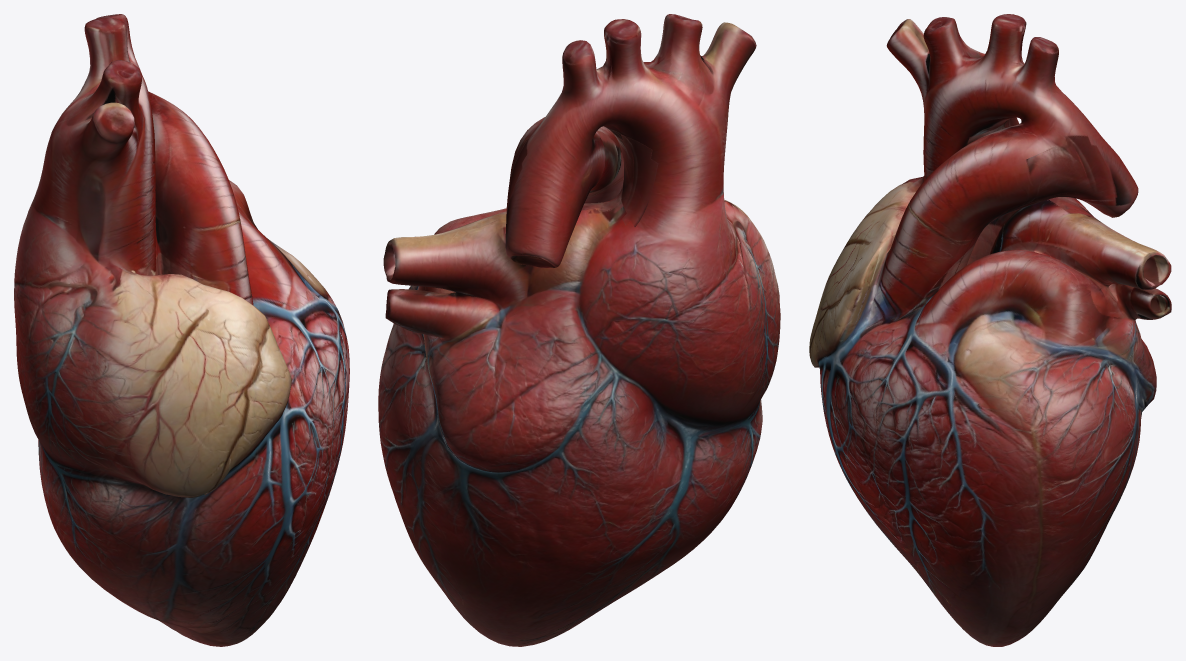
File: humanheart.glb
The picture shows the model from 3 angles, left to right: view 1: azimuth 30°, elevation 25°; view 2: azimuth 150°, elevation 25°; view 3: azimuth 270°, elevation 25°; orthographic projection. The views are drawn at different scales.
Parts seen in each view (by area): view 1: Stylized Human Heart_0; view 2: Stylized Human Heart_0; view 3: Stylized Human Heart_0.
Boxes of the visible parts, <box> form: Stylized Human Heart_0: <box>14,14,349,646</box>; Stylized Human Heart_0: <box>378,14,780,646</box>; Stylized Human Heart_0: <box>809,14,1171,646</box>.
Size of the model in its own units: 0.043 by 0.0805 by 0.0459.
Materials: 1 (1 with a texture image).
